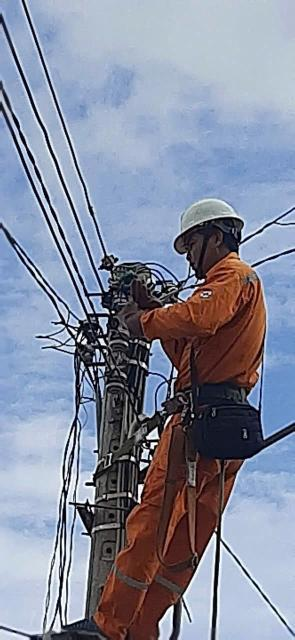gloves: (130, 272, 165, 315), (109, 304, 152, 338)
harness: (147, 377, 255, 412)
helmet: (164, 189, 262, 250)
shoes: (29, 608, 138, 640)
